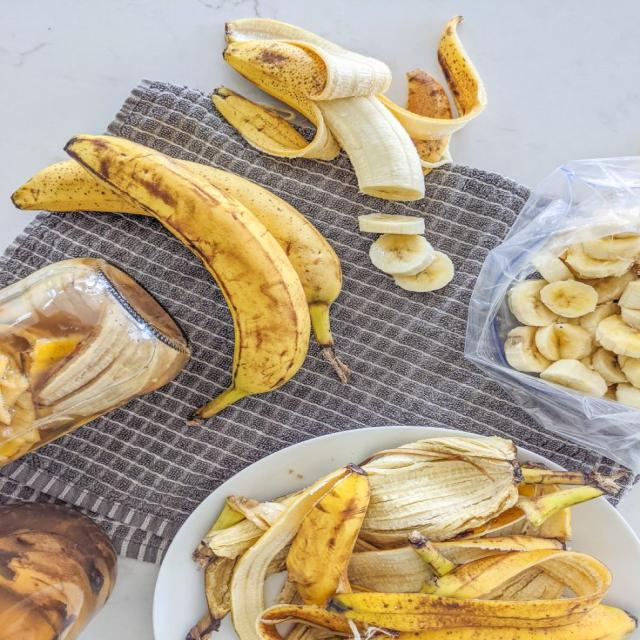banana_peel: (0, 109, 369, 449), (136, 406, 639, 639), (165, 0, 538, 283)
